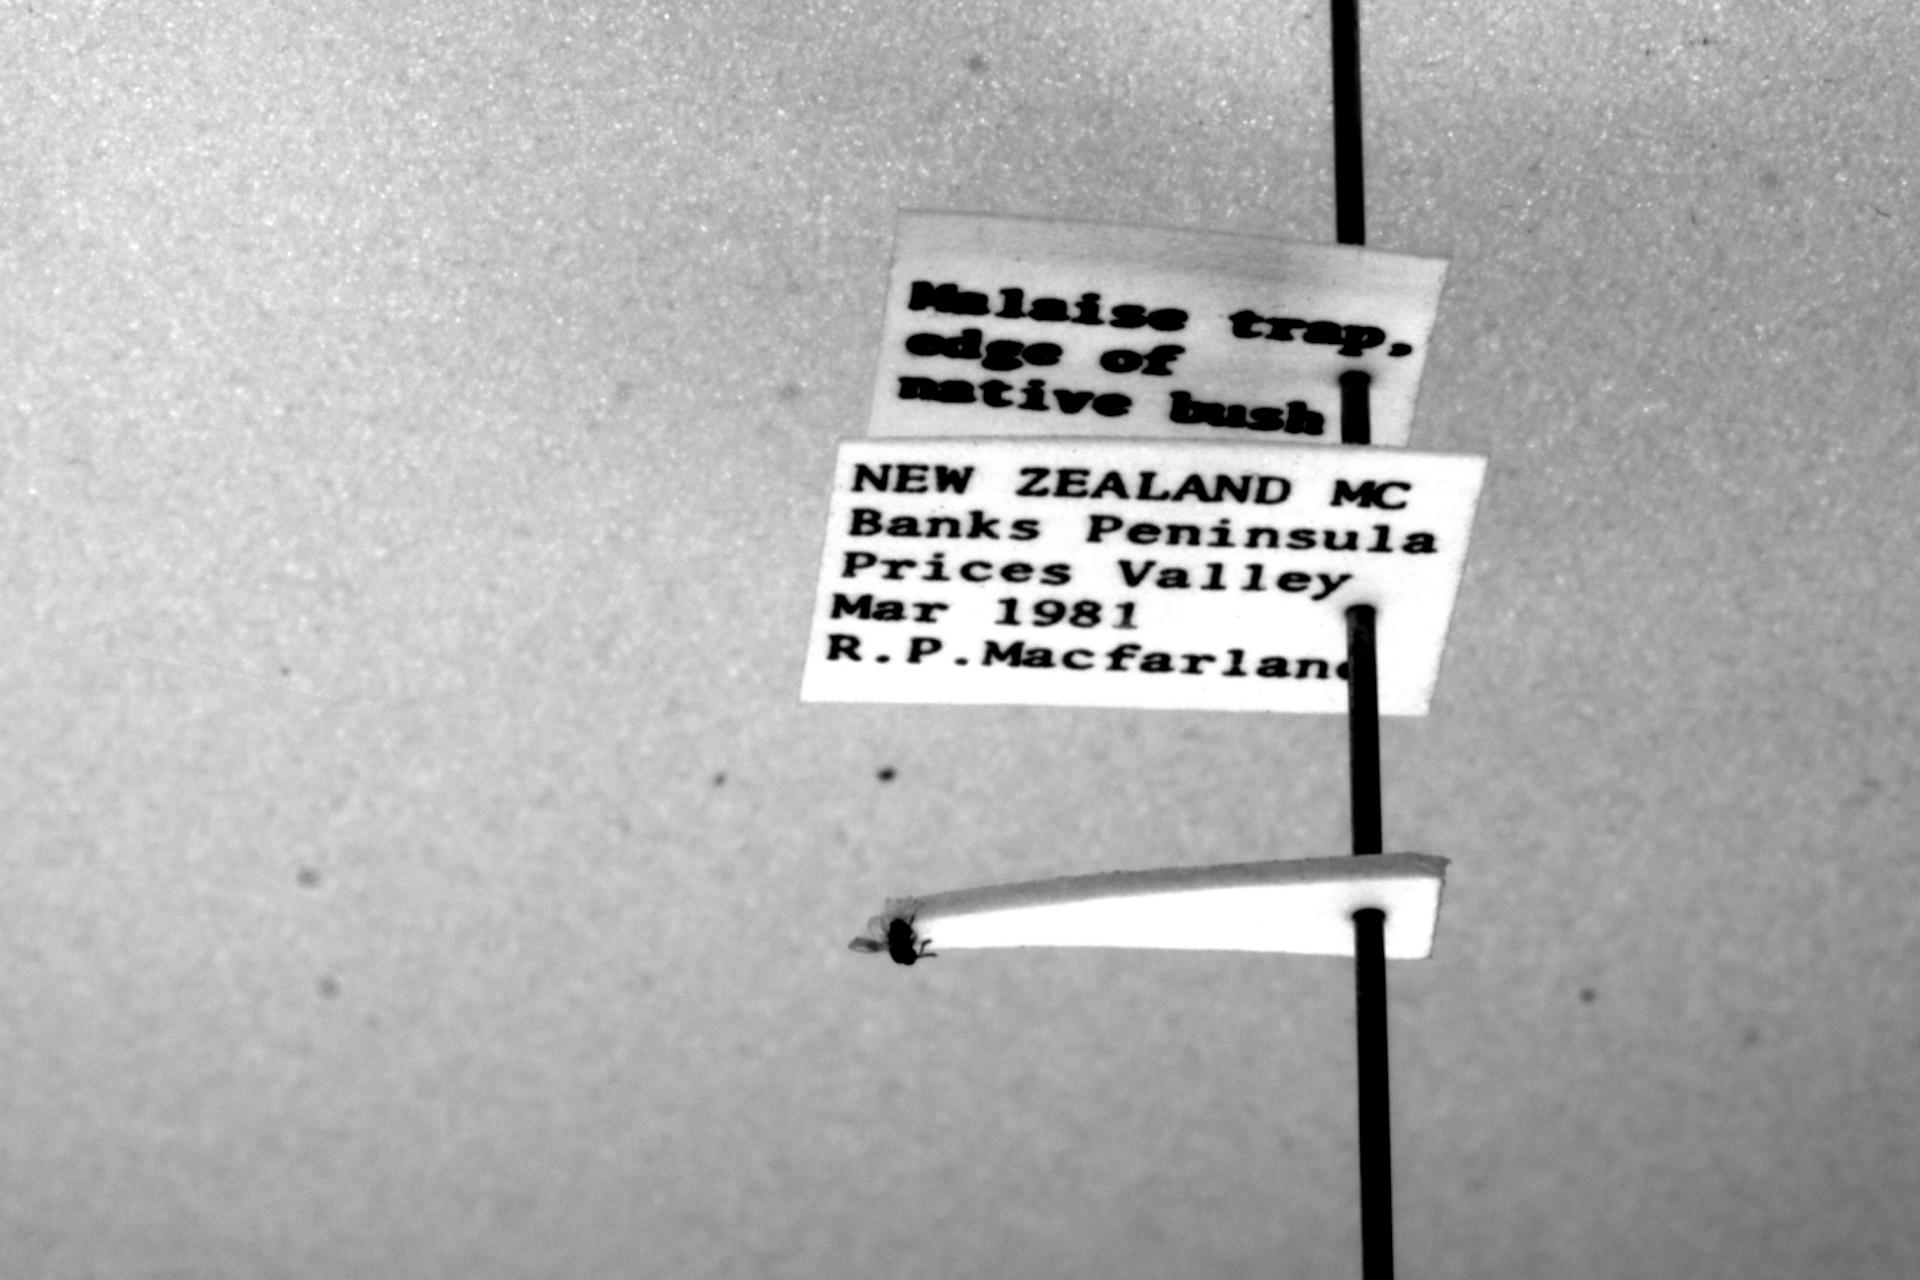typed_label: (803, 439, 1486, 716), (866, 210, 1447, 446)
